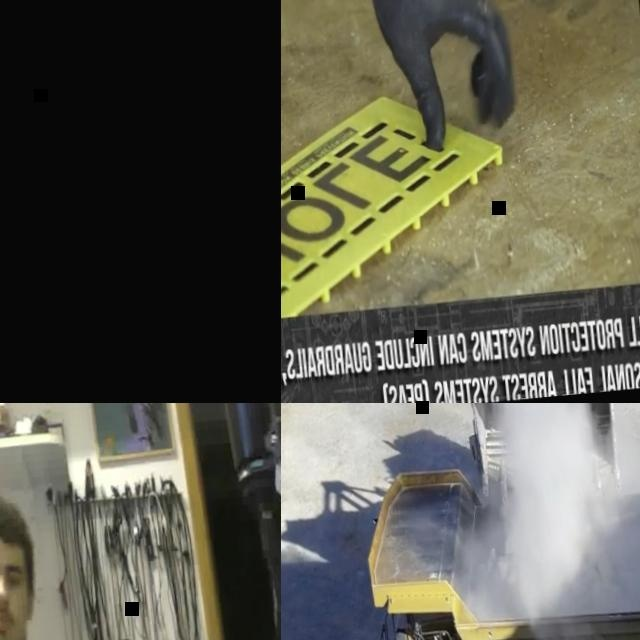NO-Hardhat: (0, 496, 29, 553)
NO-Mask: (0, 605, 27, 640)
Person: (281, 0, 537, 316), (0, 489, 92, 640)
machinery: (331, 432, 640, 640), (447, 403, 624, 512)
